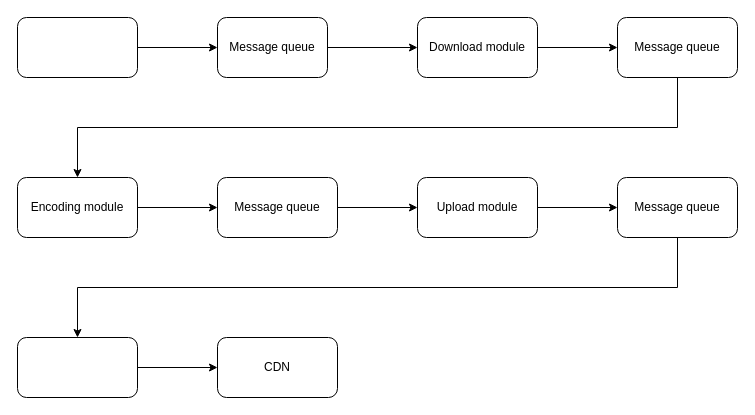
Image size: 755x415. Some labels were removed from this diagram. The shapes that lost their labels are listed below. From the top down, each one's centre as x and y in pixels, then its label:
(77,47): Original storage
(77,367): Encoded storage
